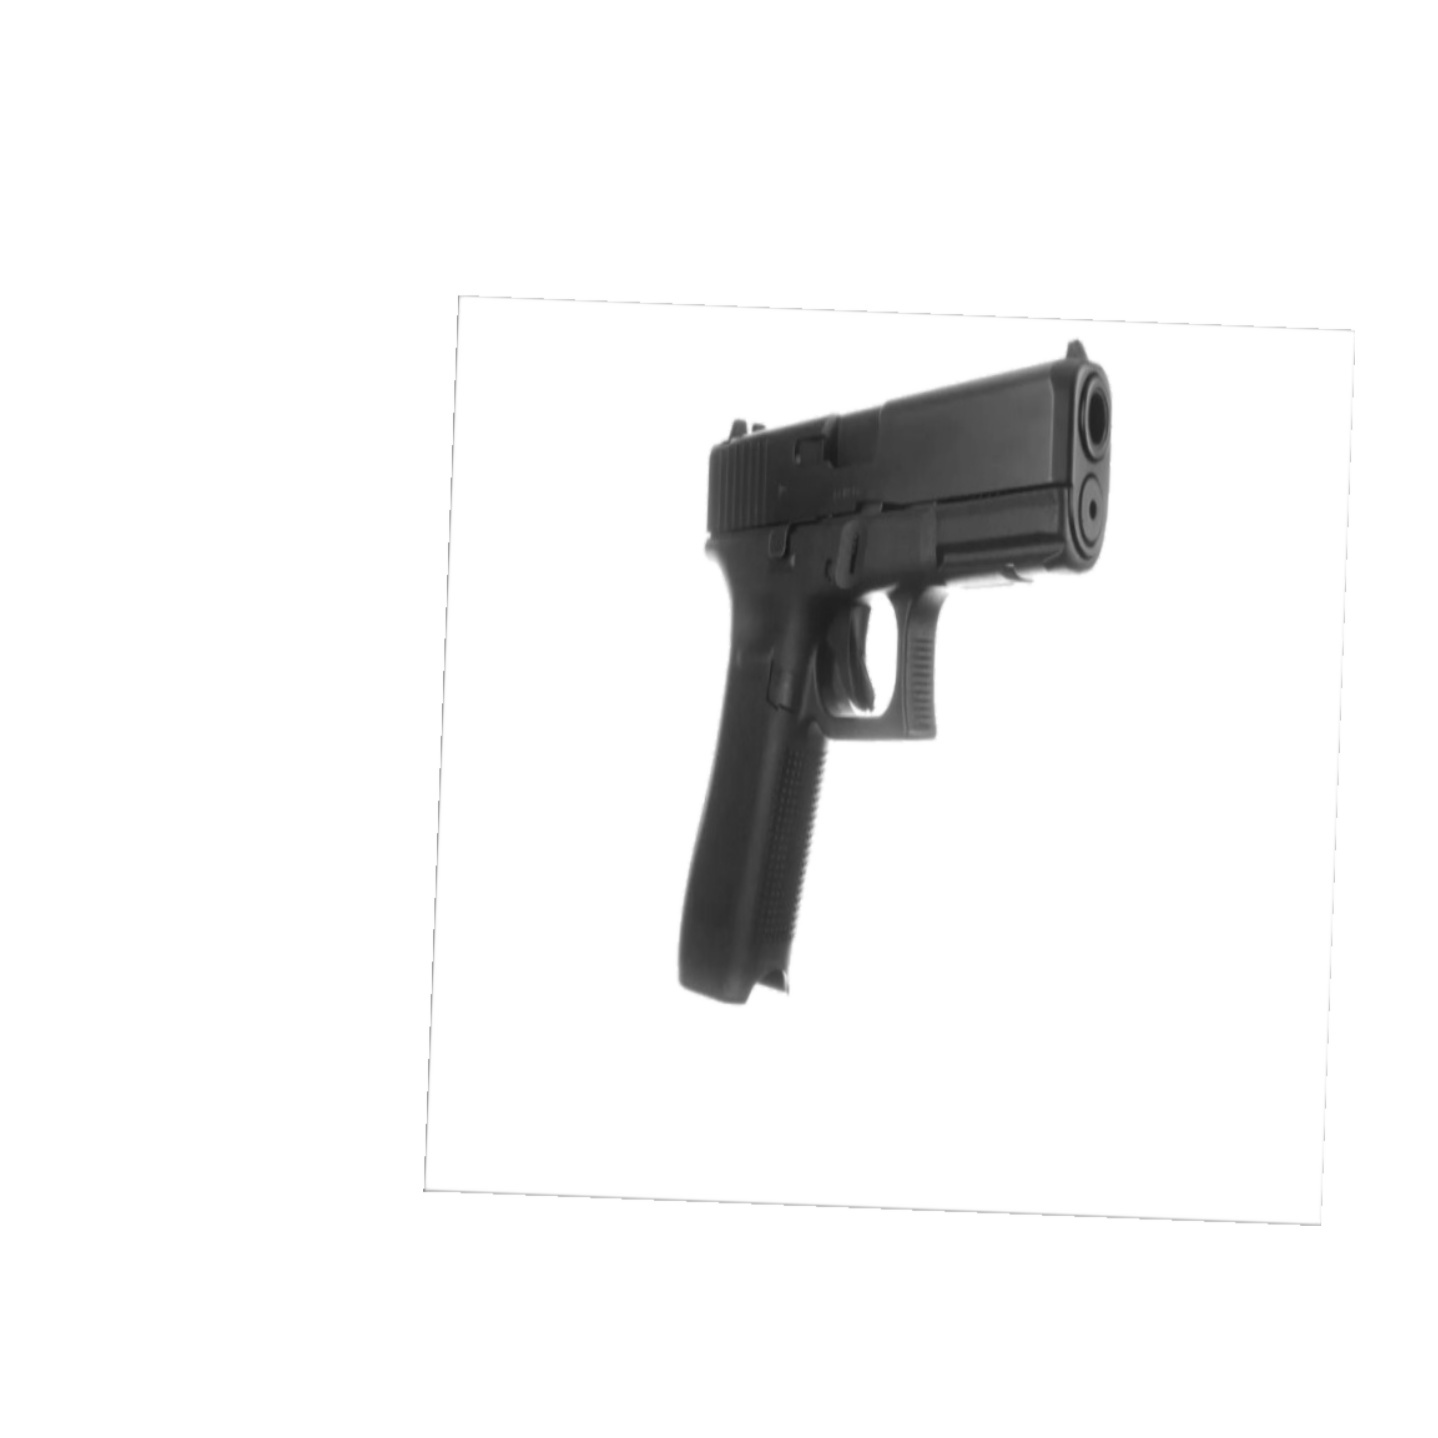gun: (673, 340, 1115, 1003)
